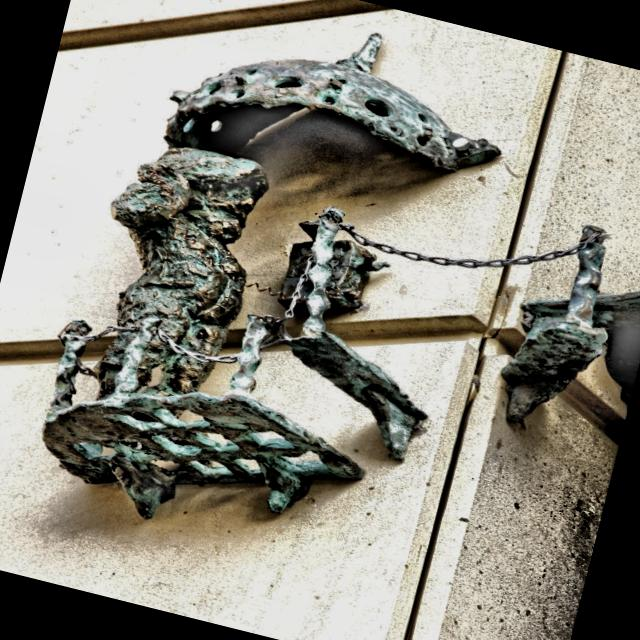Dryndek: (43, 35, 640, 517)
